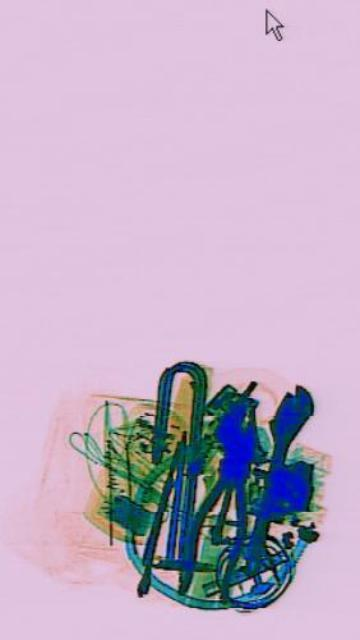Pliers: (173, 386, 271, 622)
Wrench: (227, 370, 314, 584)
